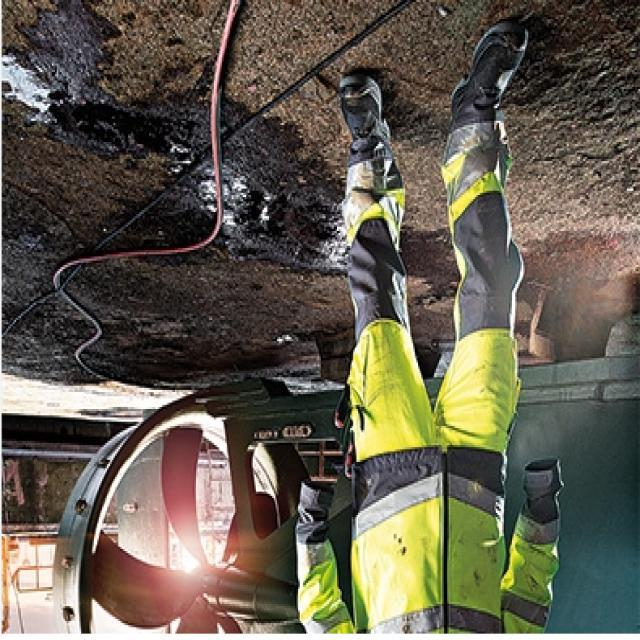boots: (327, 13, 533, 200)
vest: (286, 442, 572, 636)
